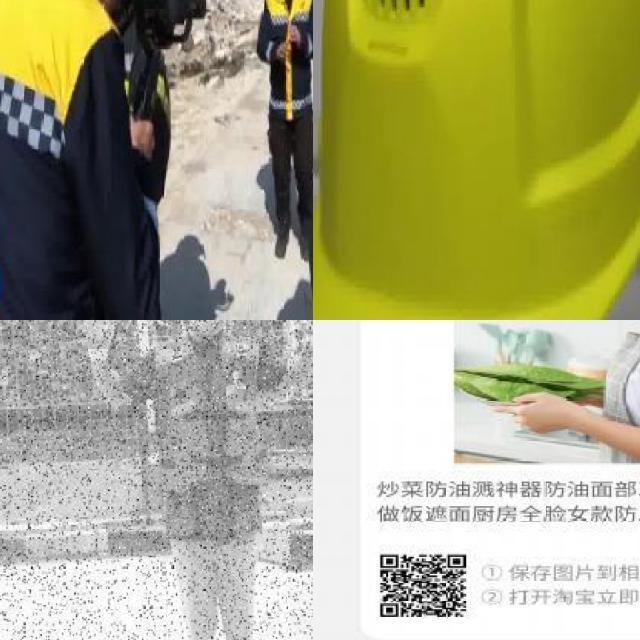apron: (79, 320, 116, 366), (289, 320, 313, 349)
